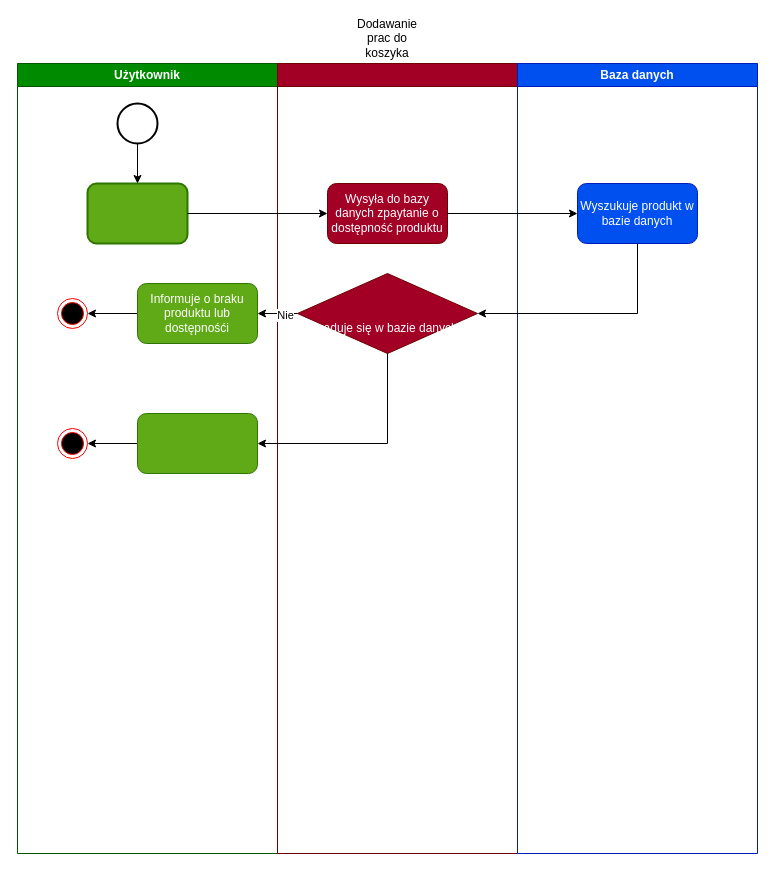
The diagram is 775 pixels wide and 871 high, and some of its shapes have lost their labels. Here are the shapes that lost their labels. From the top down, the box of each, then its label:
(86, 182, 188, 244): Użytkownik klika przycisk „Dodaj do koszyka”
(136, 412, 258, 474): wyświetla potwierdzenie
(276, 62, 518, 854): System
